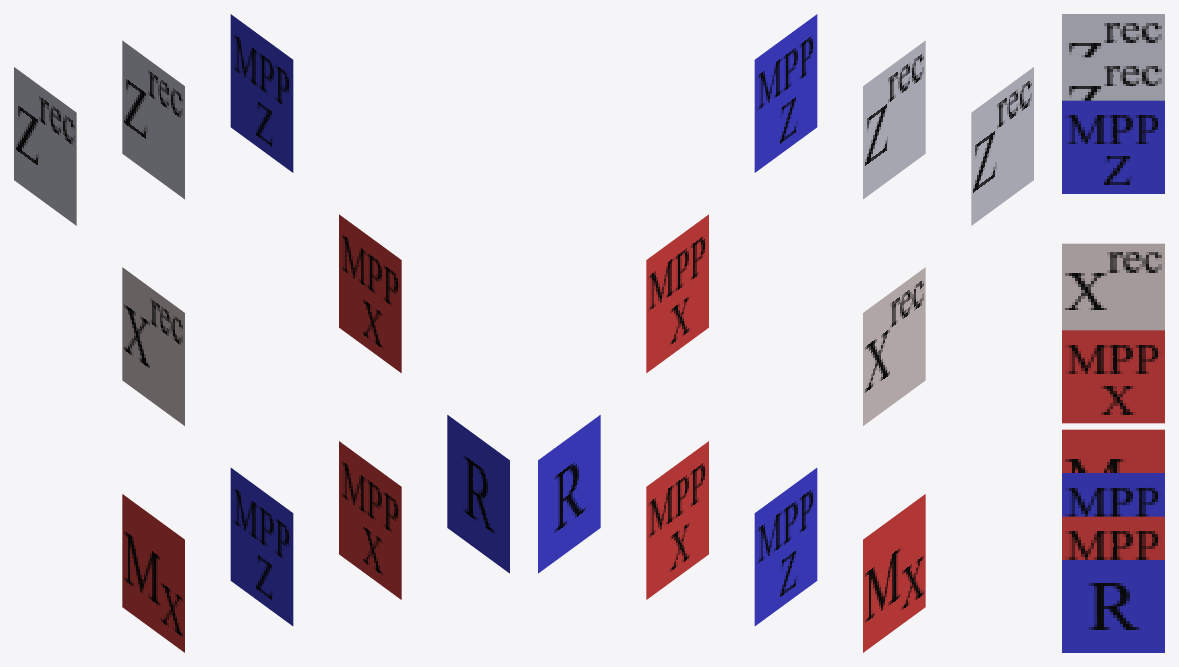
File: lattice_surgery_cnot.gltf
3 renders of one model, left to right at view 1: azimuth 30°, elevation 25°; view 2: azimuth 150°, elevation 25°; view 3: azimuth 270°, elevation 25°, orthographic. The views are drawn at different scales.
Size of the model in its own units: 4 by 5 by 1.
Materials: 1 (1 with a texture image).
